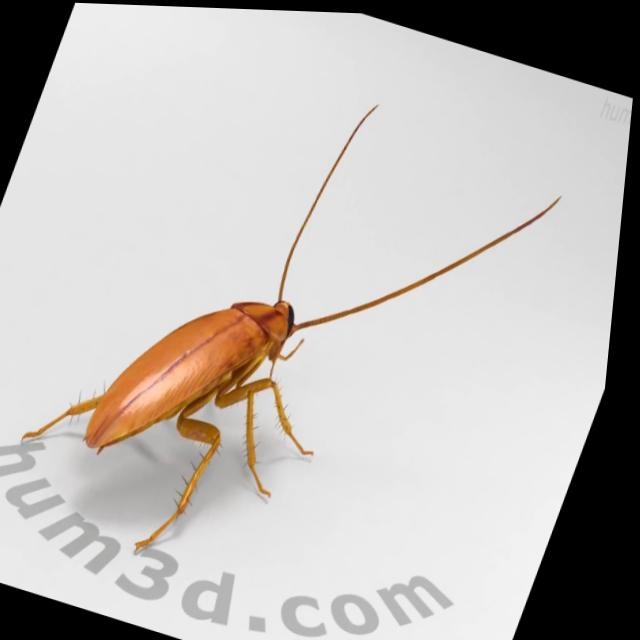Cockroach: (0, 24, 587, 633)
